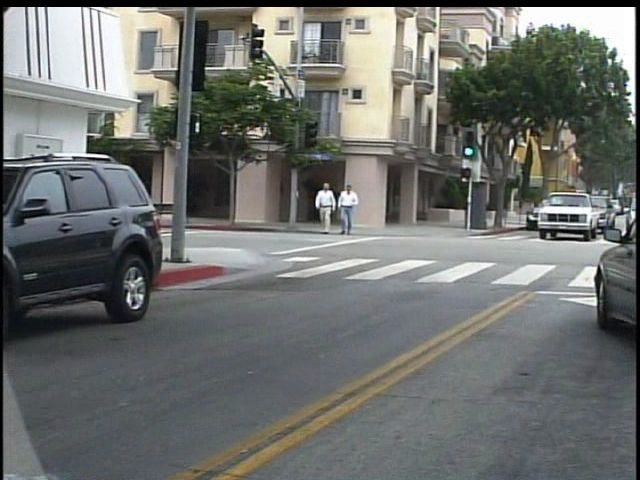person: (341, 181, 368, 240), (320, 179, 344, 242)
